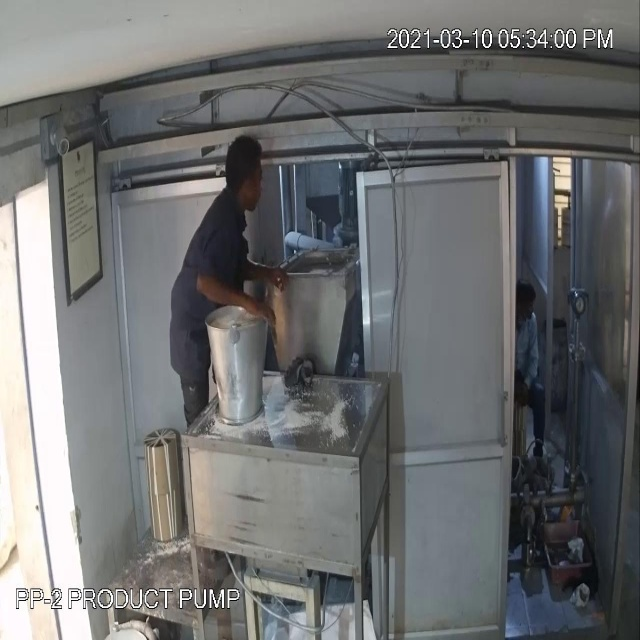Sin_guantes: (190, 269, 279, 342)
